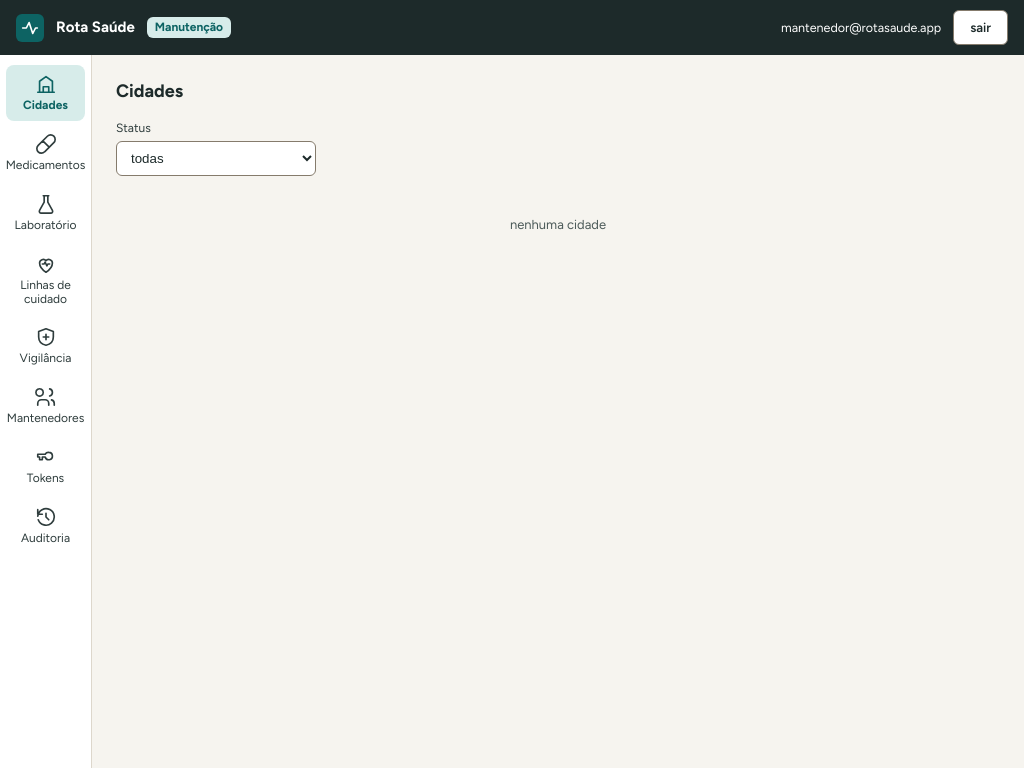
Test case: Shell › Vigilância abre a lista de doenças de notificação
Click the button "Vigilância": click(46, 346) [6,318,85,374]
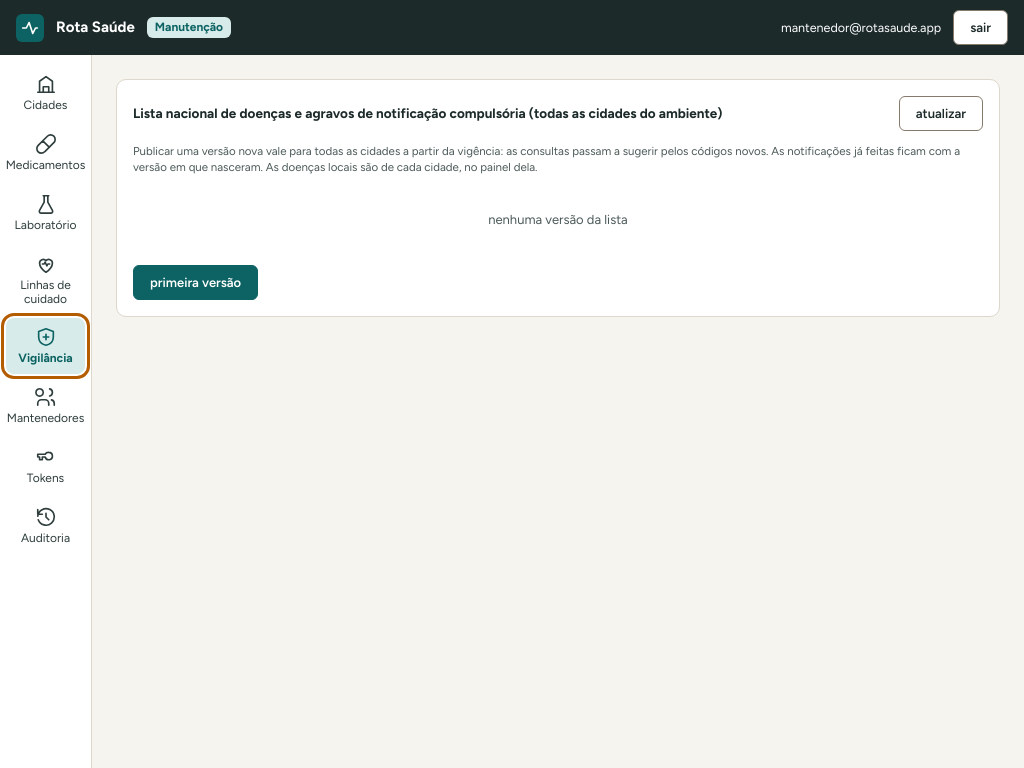
expect the text "nenhuma versão da lista" is shown: met, box [488,212,628,227]
